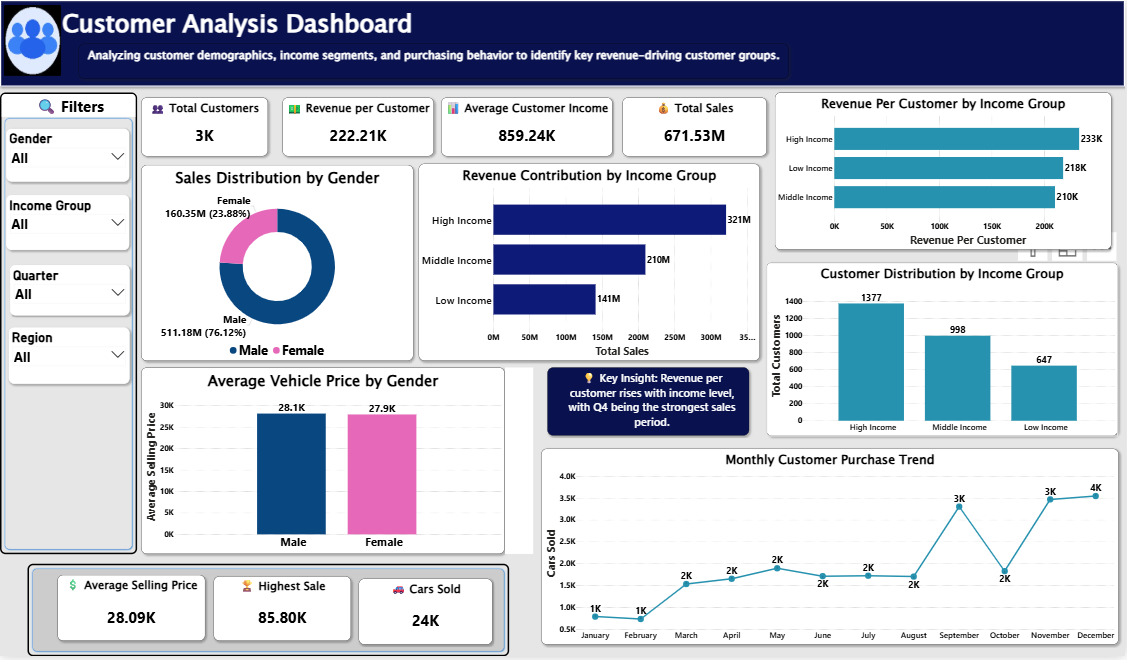

The page's visual inventory and layout, read from the dashboard file:
{"tool":"powerbi","page":{"name":"Customer Analysis Dashboard","canvas":[6000,3500],"ordinal":1},"visuals":[{"type":"shape","title":"🔍 Filters","box":[0,493.8,731.2,2462.5],"z":0},{"type":"shape","title":"🔍 Filters","box":[143.8,3006.2,2568.8,493.8],"z":1000},{"type":"textbox","box":[0,0,6000,462.5],"z":2000},{"type":"image","box":[16.7,26.9,306.4,378.2],"z":3000},{"type":"textbox","box":[418.8,231.2,3787.5,187.5],"z":4000},{"type":"cardVisual","title":"👥 Total Customers","fields":{"Data":["Measures_Table.Total Customers"]},"box":[756.2,518.8,675,312.5],"z":5000},{"type":"cardVisual","title":"💵 Revenue per Customer","fields":{"Data":["Measures_Table.Revenue Per Customer"]},"box":[1506.2,518.8,806.2,312.5],"z":6000},{"type":"cardVisual","title":"📊 Average Customer Income","fields":{"Data":["Measures_Table.Average Customer Income"]},"box":[2356.2,518.8,912.5,312.5],"z":7000},{"type":"cardVisual","title":"💰 Total Sales","fields":{"Data":["Measures_Table.Total Sales"]},"box":[3318.8,518.8,768.8,312.5],"z":8000},{"type":"cardVisual","title":"🏆 Highest Sale","fields":{"Data":["Measures_Table.Highest Sale"]},"box":[1137.5,3075,731.2,343.8],"z":9000},{"type":"cardVisual","title":"💲 Average Selling Price","fields":{"Data":["Measures_Table.Average Selling Price"]},"box":[306.2,3068.8,787.5,350],"z":10000},{"type":"cardVisual","title":"🚗 Cars Sold","fields":{"Data":["Measures_Table.Cars Sold"]},"box":[1912.5,3087.5,712.5,350],"z":11000},{"type":"donutChart","title":"Sales Distribution by Gender","fields":{"Category":["Dim_Customer.Gender"],"Y":["Measures_Table.Total Sales"]},"box":[756.2,881.2,1450,1043.8],"z":12000},{"type":"clusteredColumnChart","title":"Customer Distribution by Income Group","fields":{"Category":["Dim_Customer.Income Group"],"Y":["Measures_Table.Total Customers"]},"box":[4087.5,1400,1875,925],"z":13000},{"type":"clusteredBarChart","title":"Revenue Contribution by Income Group","fields":{"Category":["Dim_Customer.Income Group"],"Y":["Measures_Table.Total Sales"]},"box":[2231.2,875,1818.8,1050],"z":14000},{"type":"clusteredColumnChart","title":"Average Vehicle Price by Gender","fields":{"Category":["Dim_Customer.Gender"],"Y":["Measures_Table.Average Selling Price"]},"box":[756.2,1962.5,1937.5,993.8],"z":15000},{"type":"lineChart","title":"Monthly Customer Purchase Trend","fields":{"Category":["Dim_Date.Month Name"],"Y":["Measures_Table.Cars Sold"]},"box":[2885.4,2392.8,3078.9,1043.9],"z":16000},{"type":"clusteredBarChart","fields":{"Category":["Dim_Customer.Income Group"],"Y":["Measures_Table.Revenue Per Customer"]},"box":[4131.2,493.8,1793.8,837.5],"z":17000},{"type":"slicer","title":"Gender","fields":{"Values":["Dim_Customer.Gender"]},"box":[31.2,687.5,656.2,281.2],"z":18000},{"type":"slicer","title":"Income Group","fields":{"Values":["Dim_Customer.Income Group"]},"box":[31.2,1037.5,656.2,293.8],"z":19000},{"type":"slicer","title":"Quarter","fields":{"Values":["Dim_Date.Quarter"]},"box":[50,1412.5,637.5,268.8],"z":20000},{"type":"slicer","title":"Region","fields":{"Values":["Dim_Dealer.Dealer_Region"]},"box":[43.8,1743.8,643.8,300],"z":21000},{"type":"textbox","box":[2694,1963,150,994],"z":22000},{"type":"textbox","box":[2918.8,1962.5,1075,362.5],"z":23000}]}

Visuals, with their boxes in screenshot pixels (x1, y1, x2, y2), scaled from the page's 6000x3500 canvas onto the 1127x660 screenshot:
"🔍 Filters" shape: 0 93 137 557
"🔍 Filters" shape: 27 567 510 659
textbox: 0 0 1126 87
image: 3 5 61 76
textbox: 79 44 790 79
"👥 Total Customers" cardVisual: 142 98 269 157
"💵 Revenue per Customer" cardVisual: 283 98 434 157
"📊 Average Customer Income" cardVisual: 443 98 614 157
"💰 Total Sales" cardVisual: 623 98 768 157
"🏆 Highest Sale" cardVisual: 214 580 351 645
"💲 Average Selling Price" cardVisual: 58 579 205 645
"🚗 Cars Sold" cardVisual: 359 582 493 648
"Sales Distribution by Gender" donutChart: 142 166 414 363
"Customer Distribution by Income Group" clusteredColumnChart: 768 264 1120 438
"Revenue Contribution by Income Group" clusteredBarChart: 419 165 761 363
"Average Vehicle Price by Gender" clusteredColumnChart: 142 370 506 557
"Monthly Customer Purchase Trend" lineChart: 542 451 1120 648
clusteredBarChart - Dim_Customer.Income Group x Measures_Table.Revenue Per Customer: 776 93 1113 251
"Gender" slicer: 6 130 129 183
"Income Group" slicer: 6 196 129 251
"Quarter" slicer: 9 266 129 317
"Region" slicer: 8 329 129 385
textbox: 506 370 534 558
textbox: 548 370 750 438
